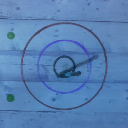Axe Tip: (60, 69, 73, 72)
